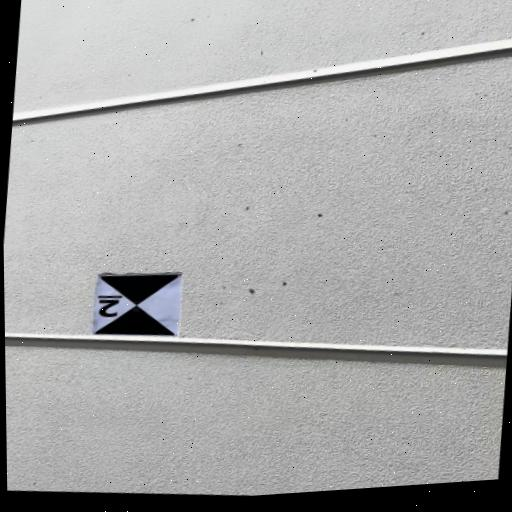target2: (92, 273, 183, 335)
